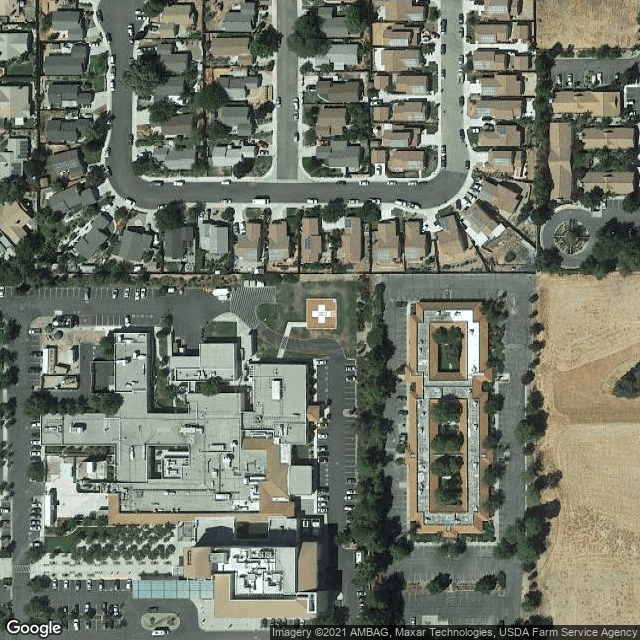Helipad: (307, 298, 337, 330)
